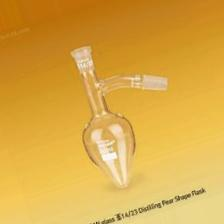Pear shaped flask: (69, 30, 173, 189)
